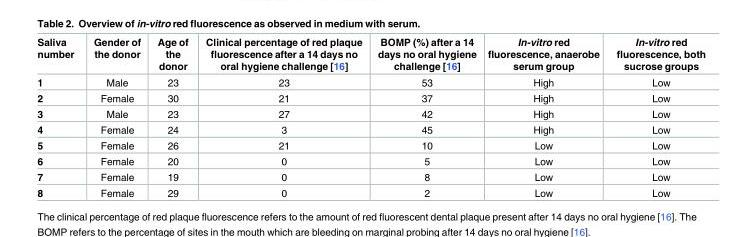table: (36, 37, 704, 198)
table column: (196, 37, 369, 198), (481, 37, 607, 198), (369, 37, 481, 198), (607, 37, 704, 198), (83, 37, 148, 198), (148, 37, 196, 198), (36, 37, 83, 198)
table column header: (36, 37, 704, 74)
table row: (36, 37, 704, 74), (36, 74, 704, 90), (36, 90, 704, 106), (36, 106, 704, 122), (36, 137, 704, 153), (36, 153, 704, 169), (36, 169, 704, 185), (36, 122, 704, 137), (36, 185, 704, 198)
